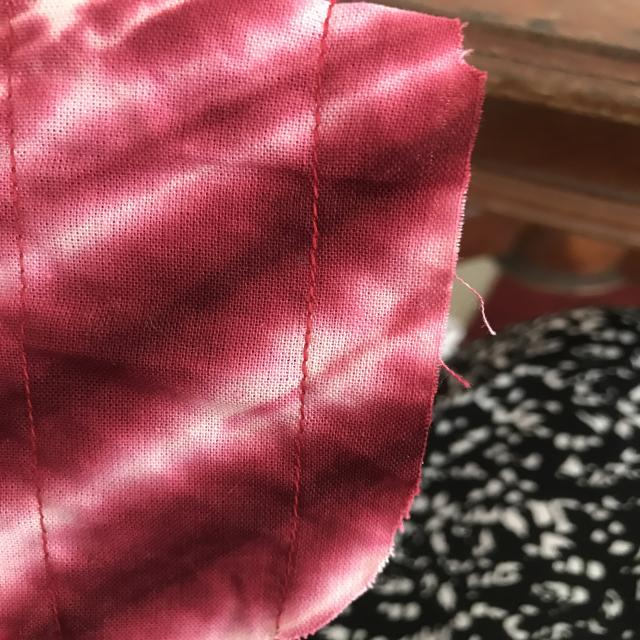good: (298, 232, 336, 334), (13, 376, 56, 457)
